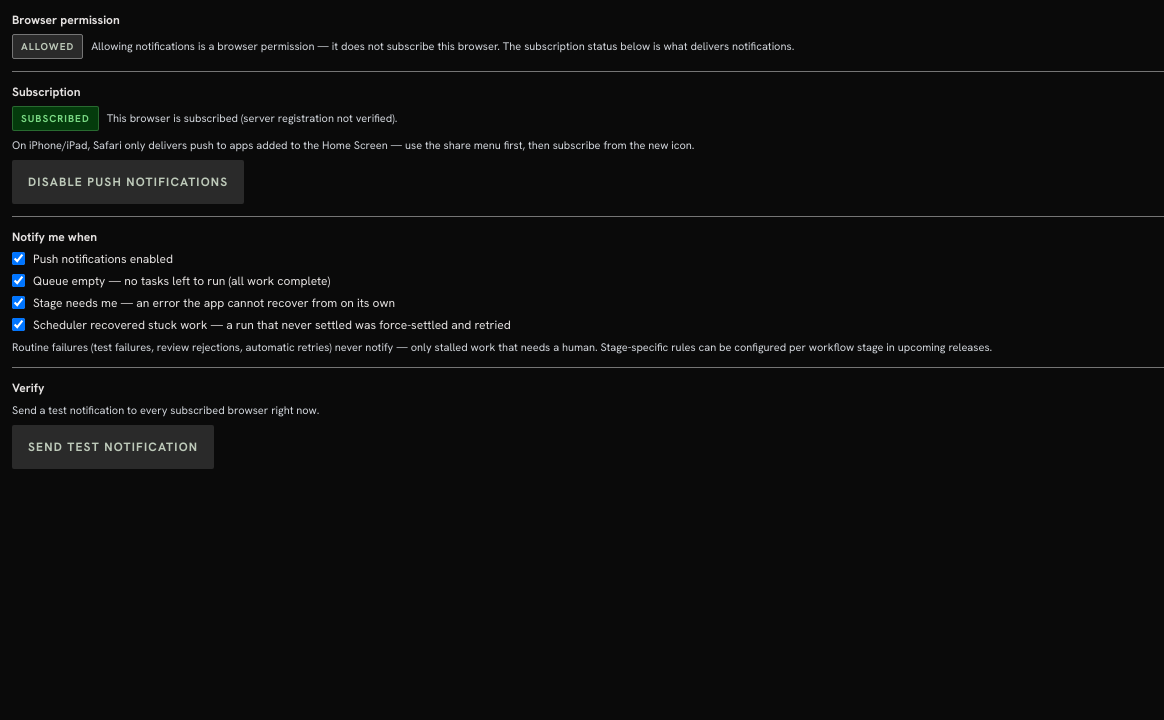
Test case: subscribed state offers disable and a working test send
Check: the button "Disable push notifications" is shown, box [12,160,244,204]
Click the button "Send test notification": (113, 446) [12,424,214,468]
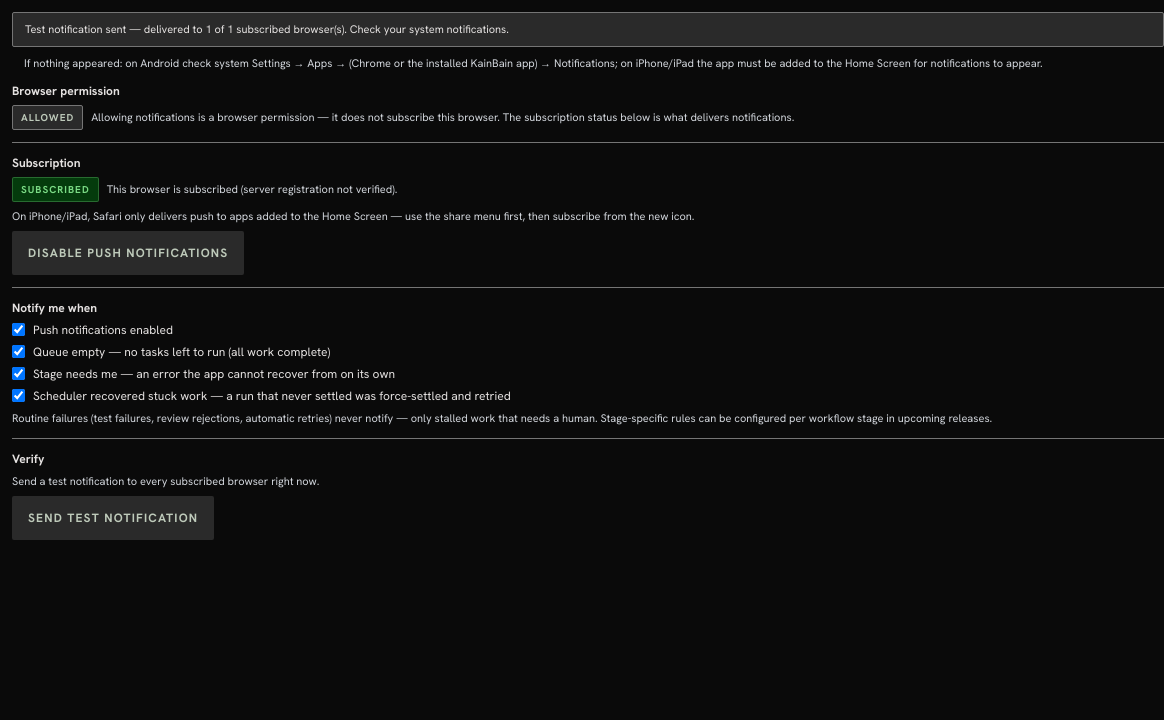
Check: the text "Test notification sent" is shown, box [25,22,509,36]
